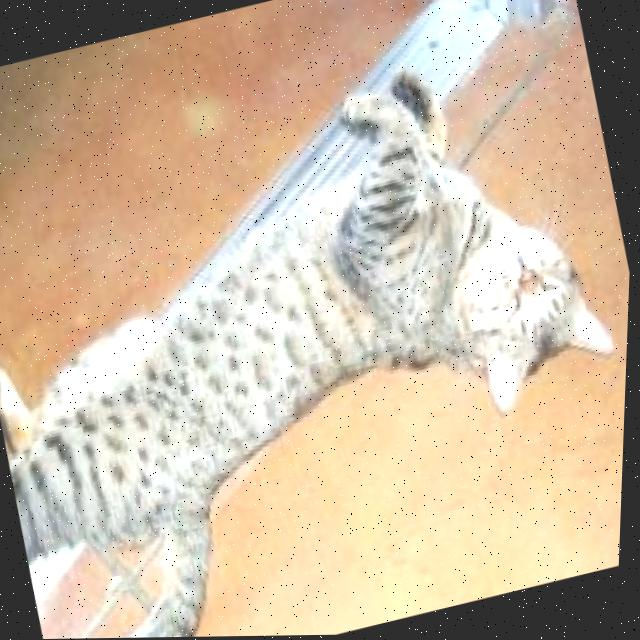Bengal: (0, 14, 639, 640)
